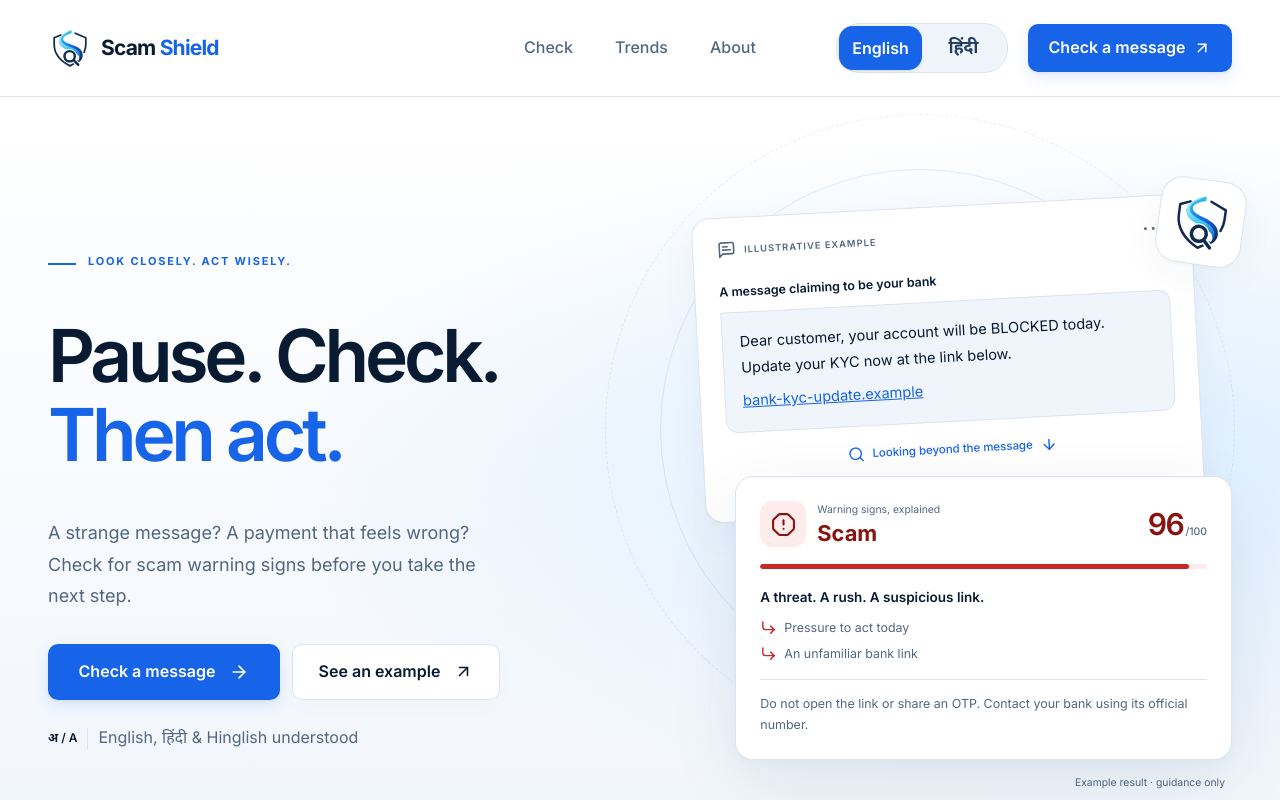
LandingPage › switches languages using the full English / हिंदी labels
The image size is (1280, 800).
Click the radio button labelled "हिंदी" at (964, 48), box left=922, top=26, right=1005, bottom=70
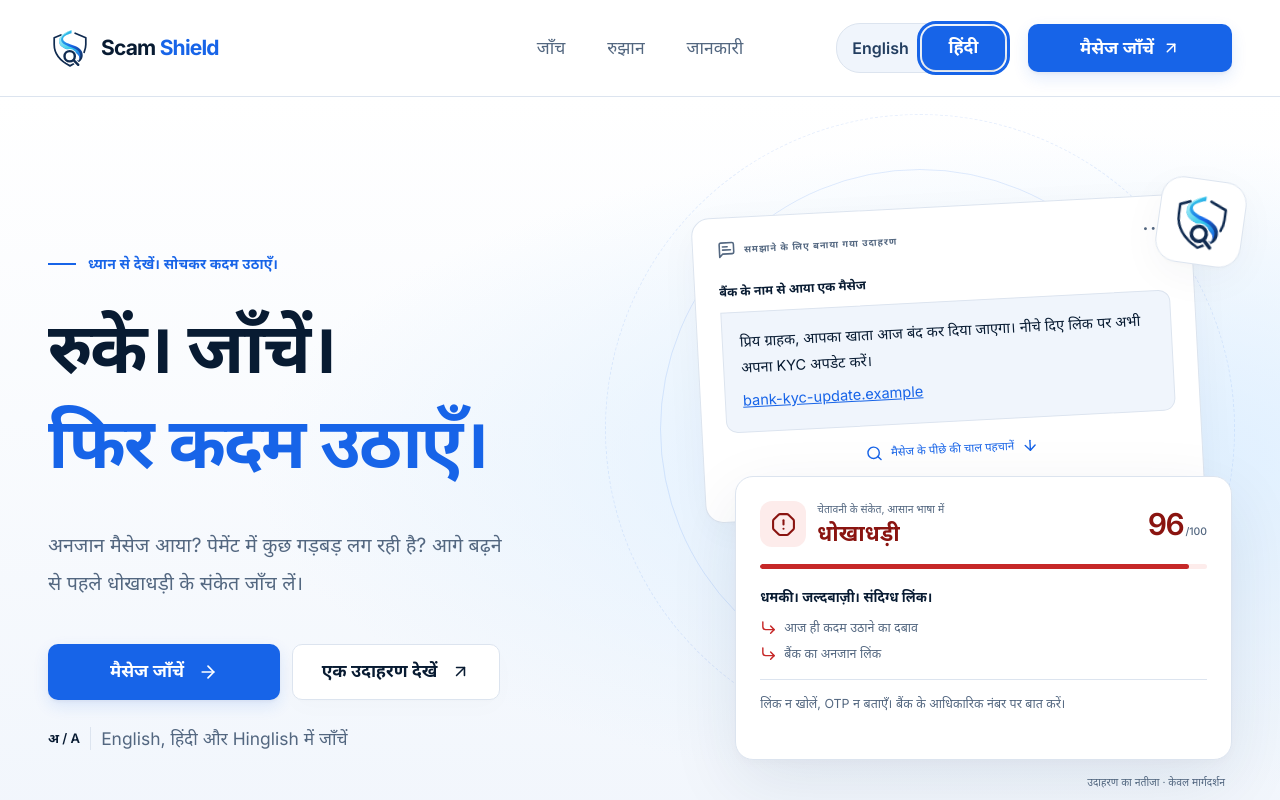
expect the heading "रुकें। जाँचें।फिर कदम उठाएँ।" is shown: met, box left=48, top=305, right=487, bottom=485
Click the radio button labelled "English" at (880, 48), box left=839, top=26, right=922, bottom=70
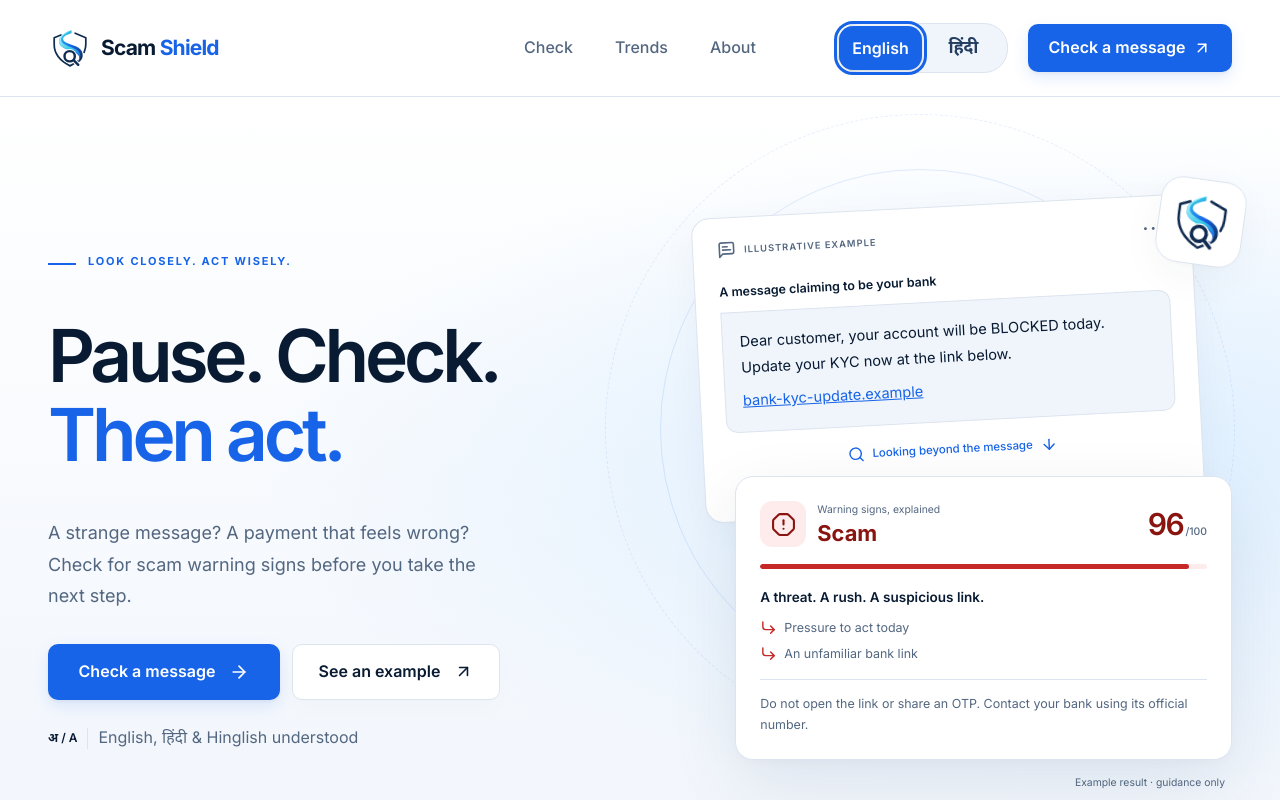
expect the heading "Pause. Check.Then act." is shown: met, box left=48, top=311, right=499, bottom=479
